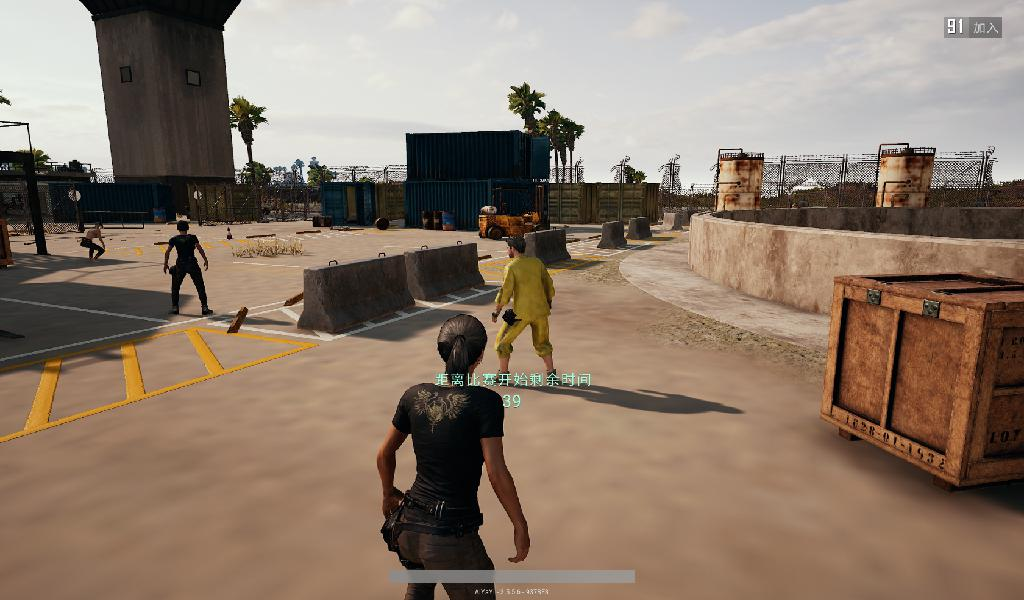Target Person: (372, 313, 531, 600), (492, 239, 562, 389), (163, 220, 213, 320), (78, 222, 106, 264)
